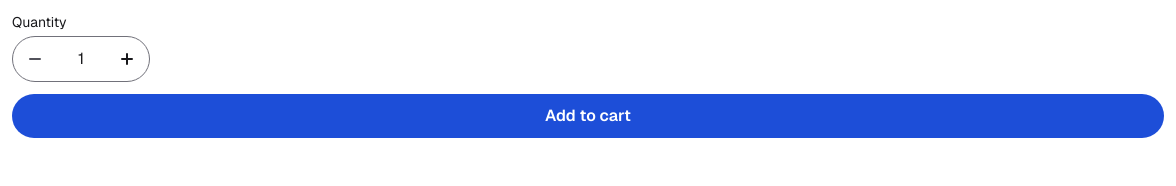
Test: AddToCartForm v2: stock changed mid-session › INSUFFICIENT_STOCK shows the available count and lowers the stepper max
The width and height of the screenshot is (1176, 186).
Step 1. Press End in the field labelled "Quantity", box [57,37,105,81]
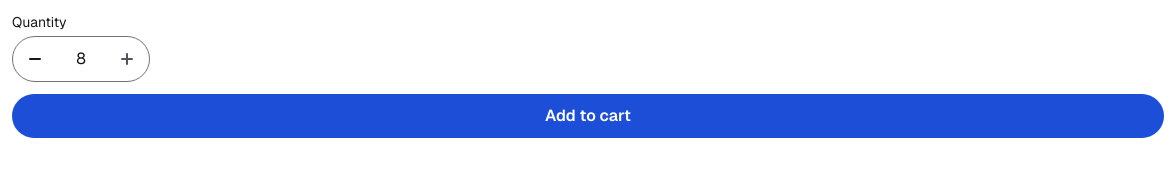
Step 2. Click the button "Add to cart" → click(588, 116), box [12,94,1164,138]
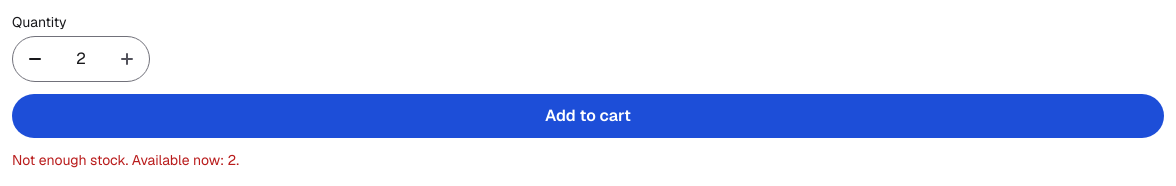
Check: the button named "Increase quantity" is disabled, box [105,37,149,81]
Check: the message reads "Not enough stock. Available now: 2.", box [12,151,239,169]
Check: the field labelled "Quantity" holds "2", box [57,37,105,81]
